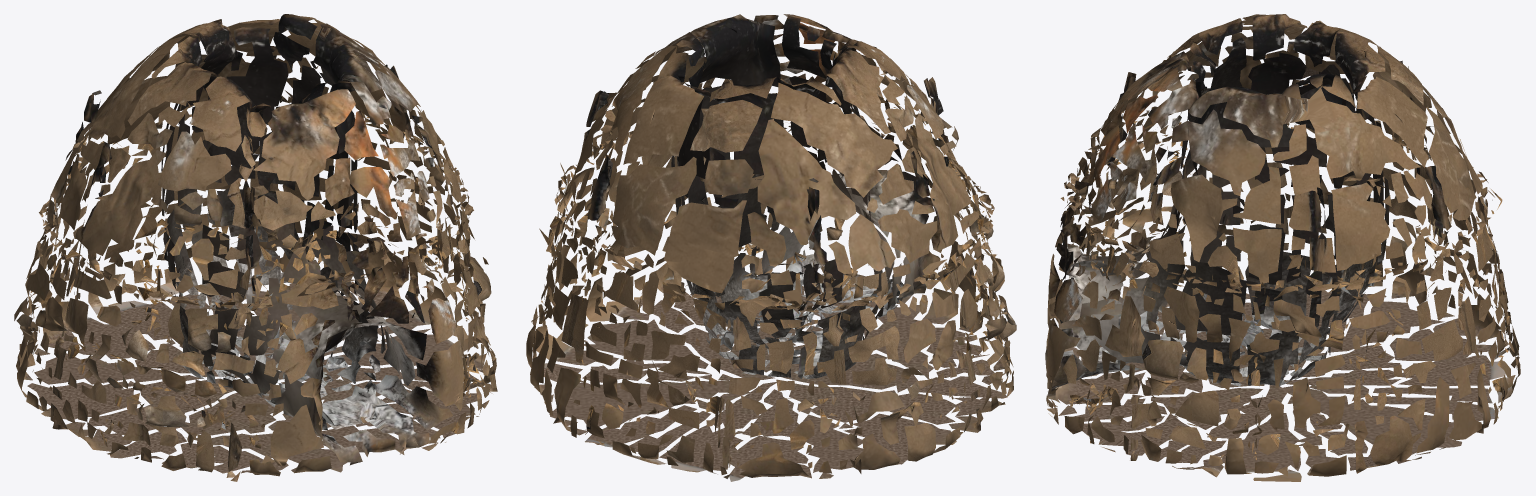
File: lehmhuette.glb
The picture shows the model from 3 angles, left to right: view 1: azimuth 30°, elevation 25°; view 2: azimuth 150°, elevation 25°; view 3: azimuth 270°, elevation 25°; orthographic projection.
Bounding box in the file's own units: 1.87 × 1.43 × 1.83.
1 material, 1 textured.
